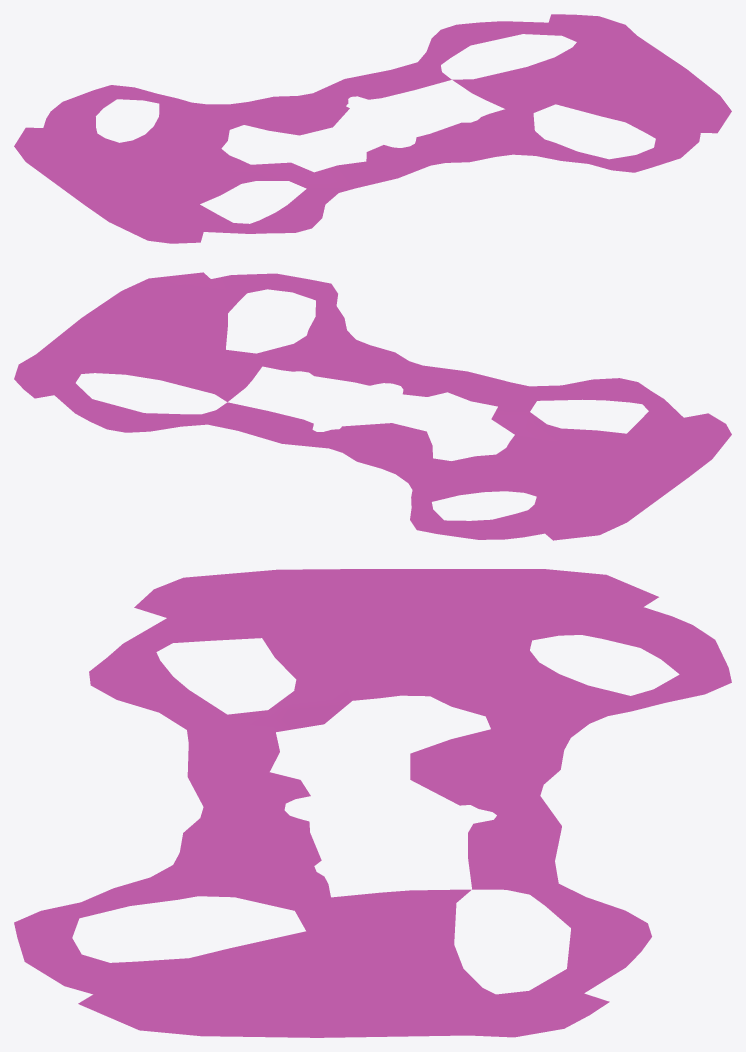
Rendered from cluster_1.fbx.
3 views of the same model, one above another, from view 1: azimuth 30°, elevation 25°; view 2: azimuth 150°, elevation 25°; view 3: azimuth 270°, elevation 25° (orthographic). The views are drawn at different scales.
Parts seen in each view (by area): view 1: cluster_1; view 2: cluster_1; view 3: cluster_1.
Boxes of the visible parts, left/top/right/bottom form: cluster_1: left=14, top=14, right=731, bottom=243; cluster_1: left=14, top=272, right=731, bottom=540; cluster_1: left=14, top=569, right=731, bottom=1037.
Size of the model in its own units: 466512 by 659 by 301902.
